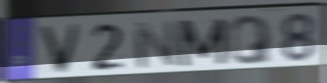2: (90, 22, 126, 73)
8: (279, 12, 317, 64)
M: (176, 17, 230, 69)
N: (132, 19, 180, 71)
Q: (227, 14, 274, 67)
V: (36, 22, 84, 76)
